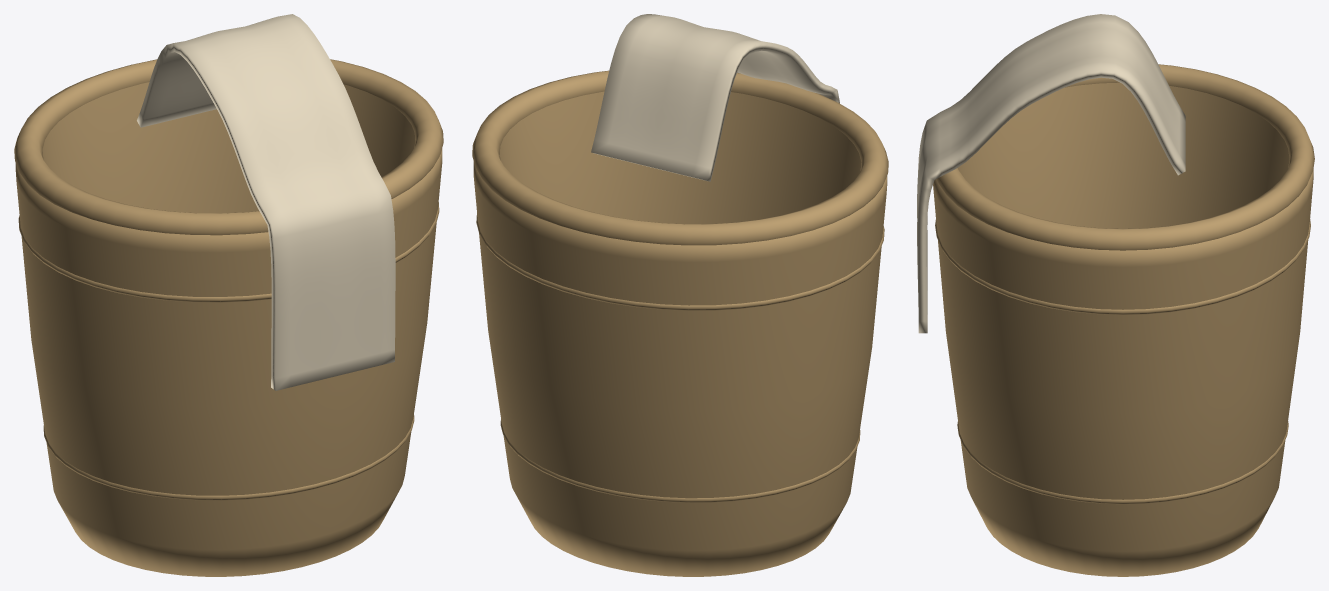
The model's file is basket.glb.
3 views of the same model, side by side, from view 1: azimuth 30°, elevation 25°; view 2: azimuth 150°, elevation 25°; view 3: azimuth 270°, elevation 25° (orthographic). The views are drawn at different scales.
Parts seen in each view (by area): view 1: continuous-hollow-basket, one-draped-linen-cloth, bound-basket-rim, broad-wicker-band-0-13, broad-wicker-band-0-43; view 2: continuous-hollow-basket, one-draped-linen-cloth, bound-basket-rim, broad-wicker-band-0-43, broad-wicker-band-0-13; view 3: continuous-hollow-basket, one-draped-linen-cloth, bound-basket-rim, broad-wicker-band-0-43, broad-wicker-band-0-13.
Part boxes in pixels (x1=…): continuous-hollow-basket: x1=15, y1=82, x2=442, y2=576; one-draped-linen-cloth: x1=137, y1=14, x2=395, y2=390; bound-basket-rim: x1=14, y1=59, x2=443, y2=235; broad-wicker-band-0-13: x1=43, y1=415, x2=414, y2=500; broad-wicker-band-0-43: x1=18, y1=202, x2=439, y2=302; continuous-hollow-basket: x1=473, y1=91, x2=887, y2=576; one-draped-linen-cloth: x1=591, y1=14, x2=839, y2=181; bound-basket-rim: x1=472, y1=70, x2=888, y2=245; broad-wicker-band-0-43: x1=476, y1=213, x2=884, y2=310; broad-wicker-band-0-13: x1=500, y1=419, x2=860, y2=502; continuous-hollow-basket: x1=933, y1=82, x2=1313, y2=576; one-draped-linen-cloth: x1=917, y1=14, x2=1185, y2=333; bound-basket-rim: x1=936, y1=64, x2=1314, y2=250; broad-wicker-band-0-43: x1=935, y1=219, x2=1310, y2=314; broad-wicker-band-0-13: x1=957, y1=421, x2=1288, y2=504.
Size of the model in its own units: 0.574 by 0.7071 by 0.5416.
